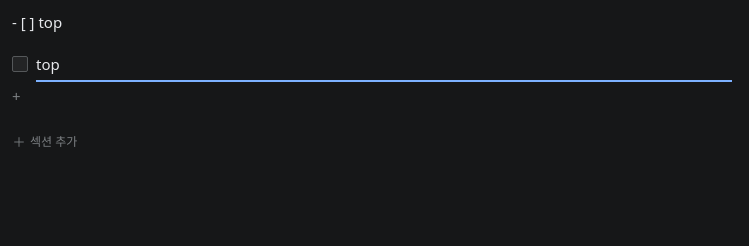
Test case: adds sections in plain and todo modes, then focuses their body (todo=true)
Click the button "섹션 추가": (49, 142) top-left (12, 128), bottom-right (85, 156)
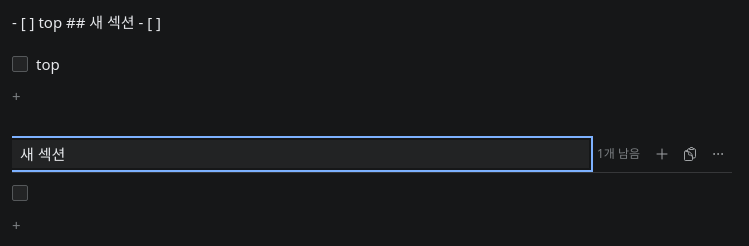
Expected: the button "섹션 추가" is gone
Expected: the field named "섹션 이름" holds "새 섹션"
Replace the text in the field named "섹션 이름" with "내 섹션": (300, 154) top-left (12, 140), bottom-right (589, 168)
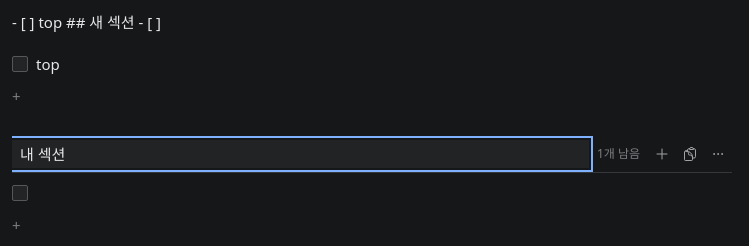
Press Enter in the field named "섹션 이름", box top-left (12, 140), bottom-right (589, 168)
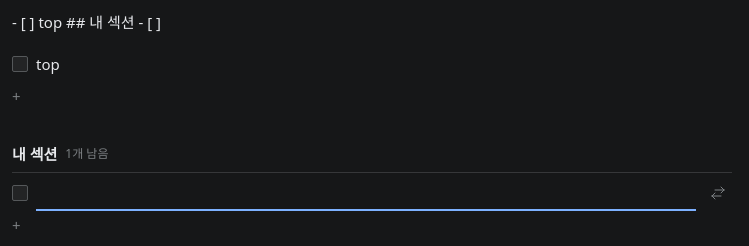
Expected: the text box named "메모 본문" below "개 남음" is empty, top-left (36, 177), bottom-right (696, 209)
Expected: the heading "내 섹션" is shown, top-left (12, 144), bottom-right (57, 164)
